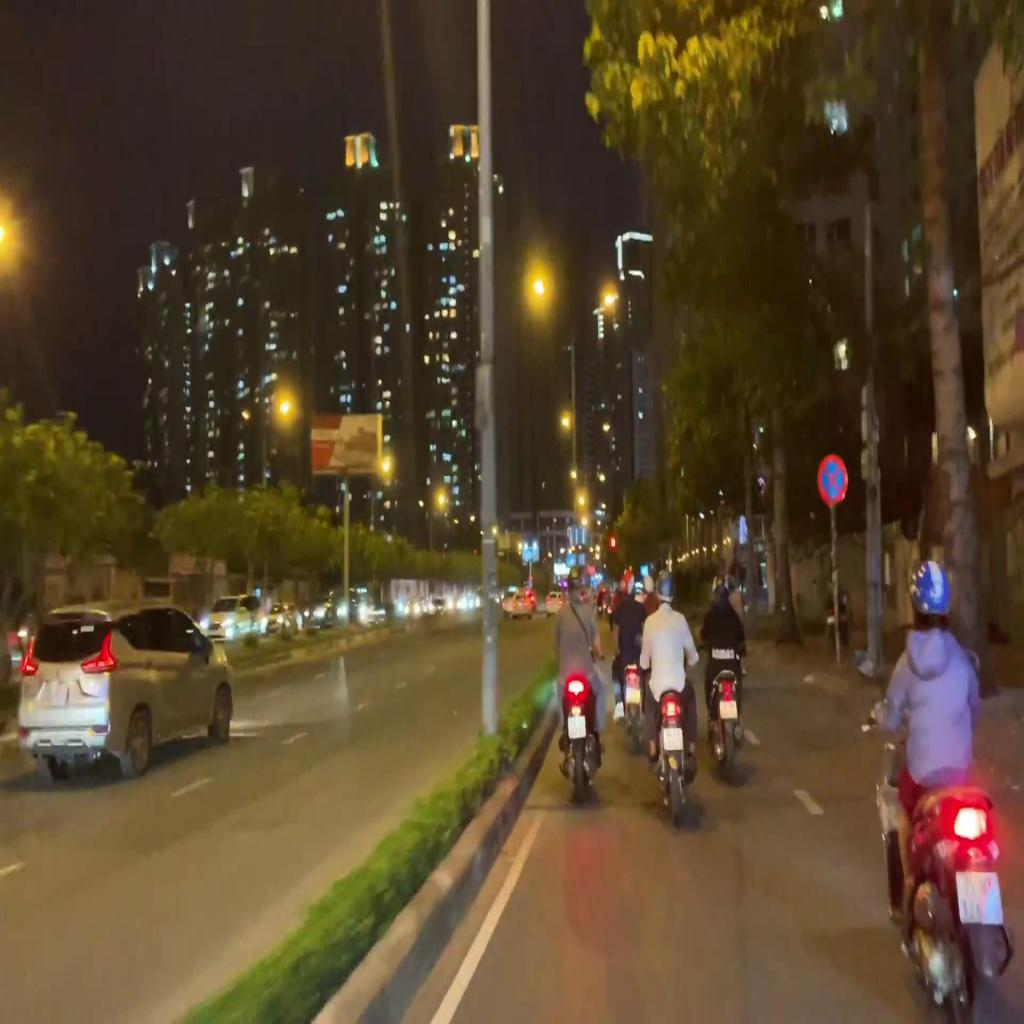cam_dung_xe_va_do_xe: (818, 452, 848, 506)
